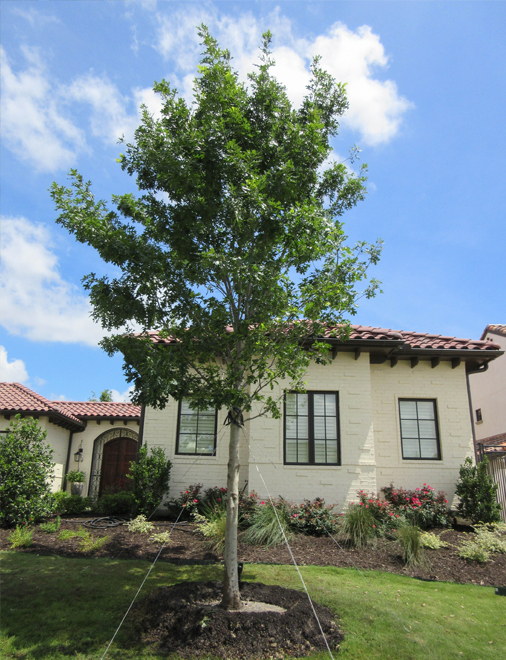tree: (60, 44, 384, 613)
